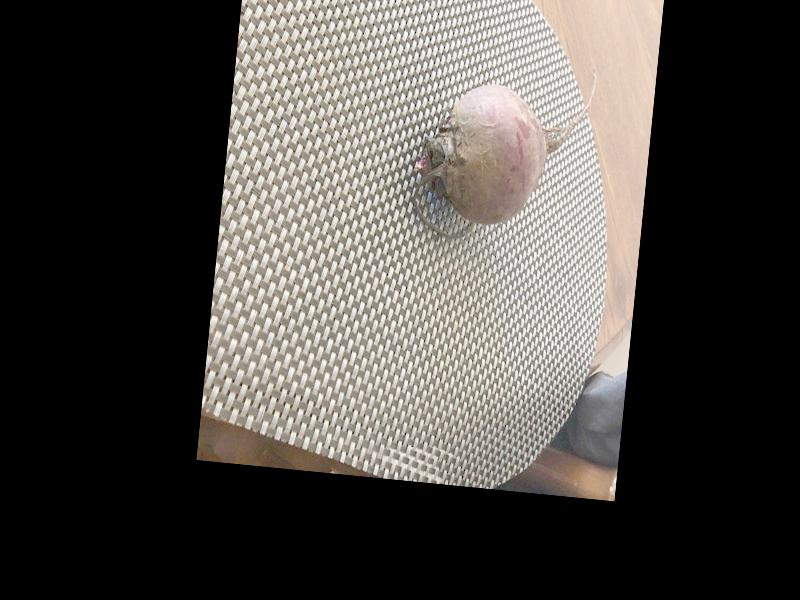Beet: (408, 54, 597, 252)
